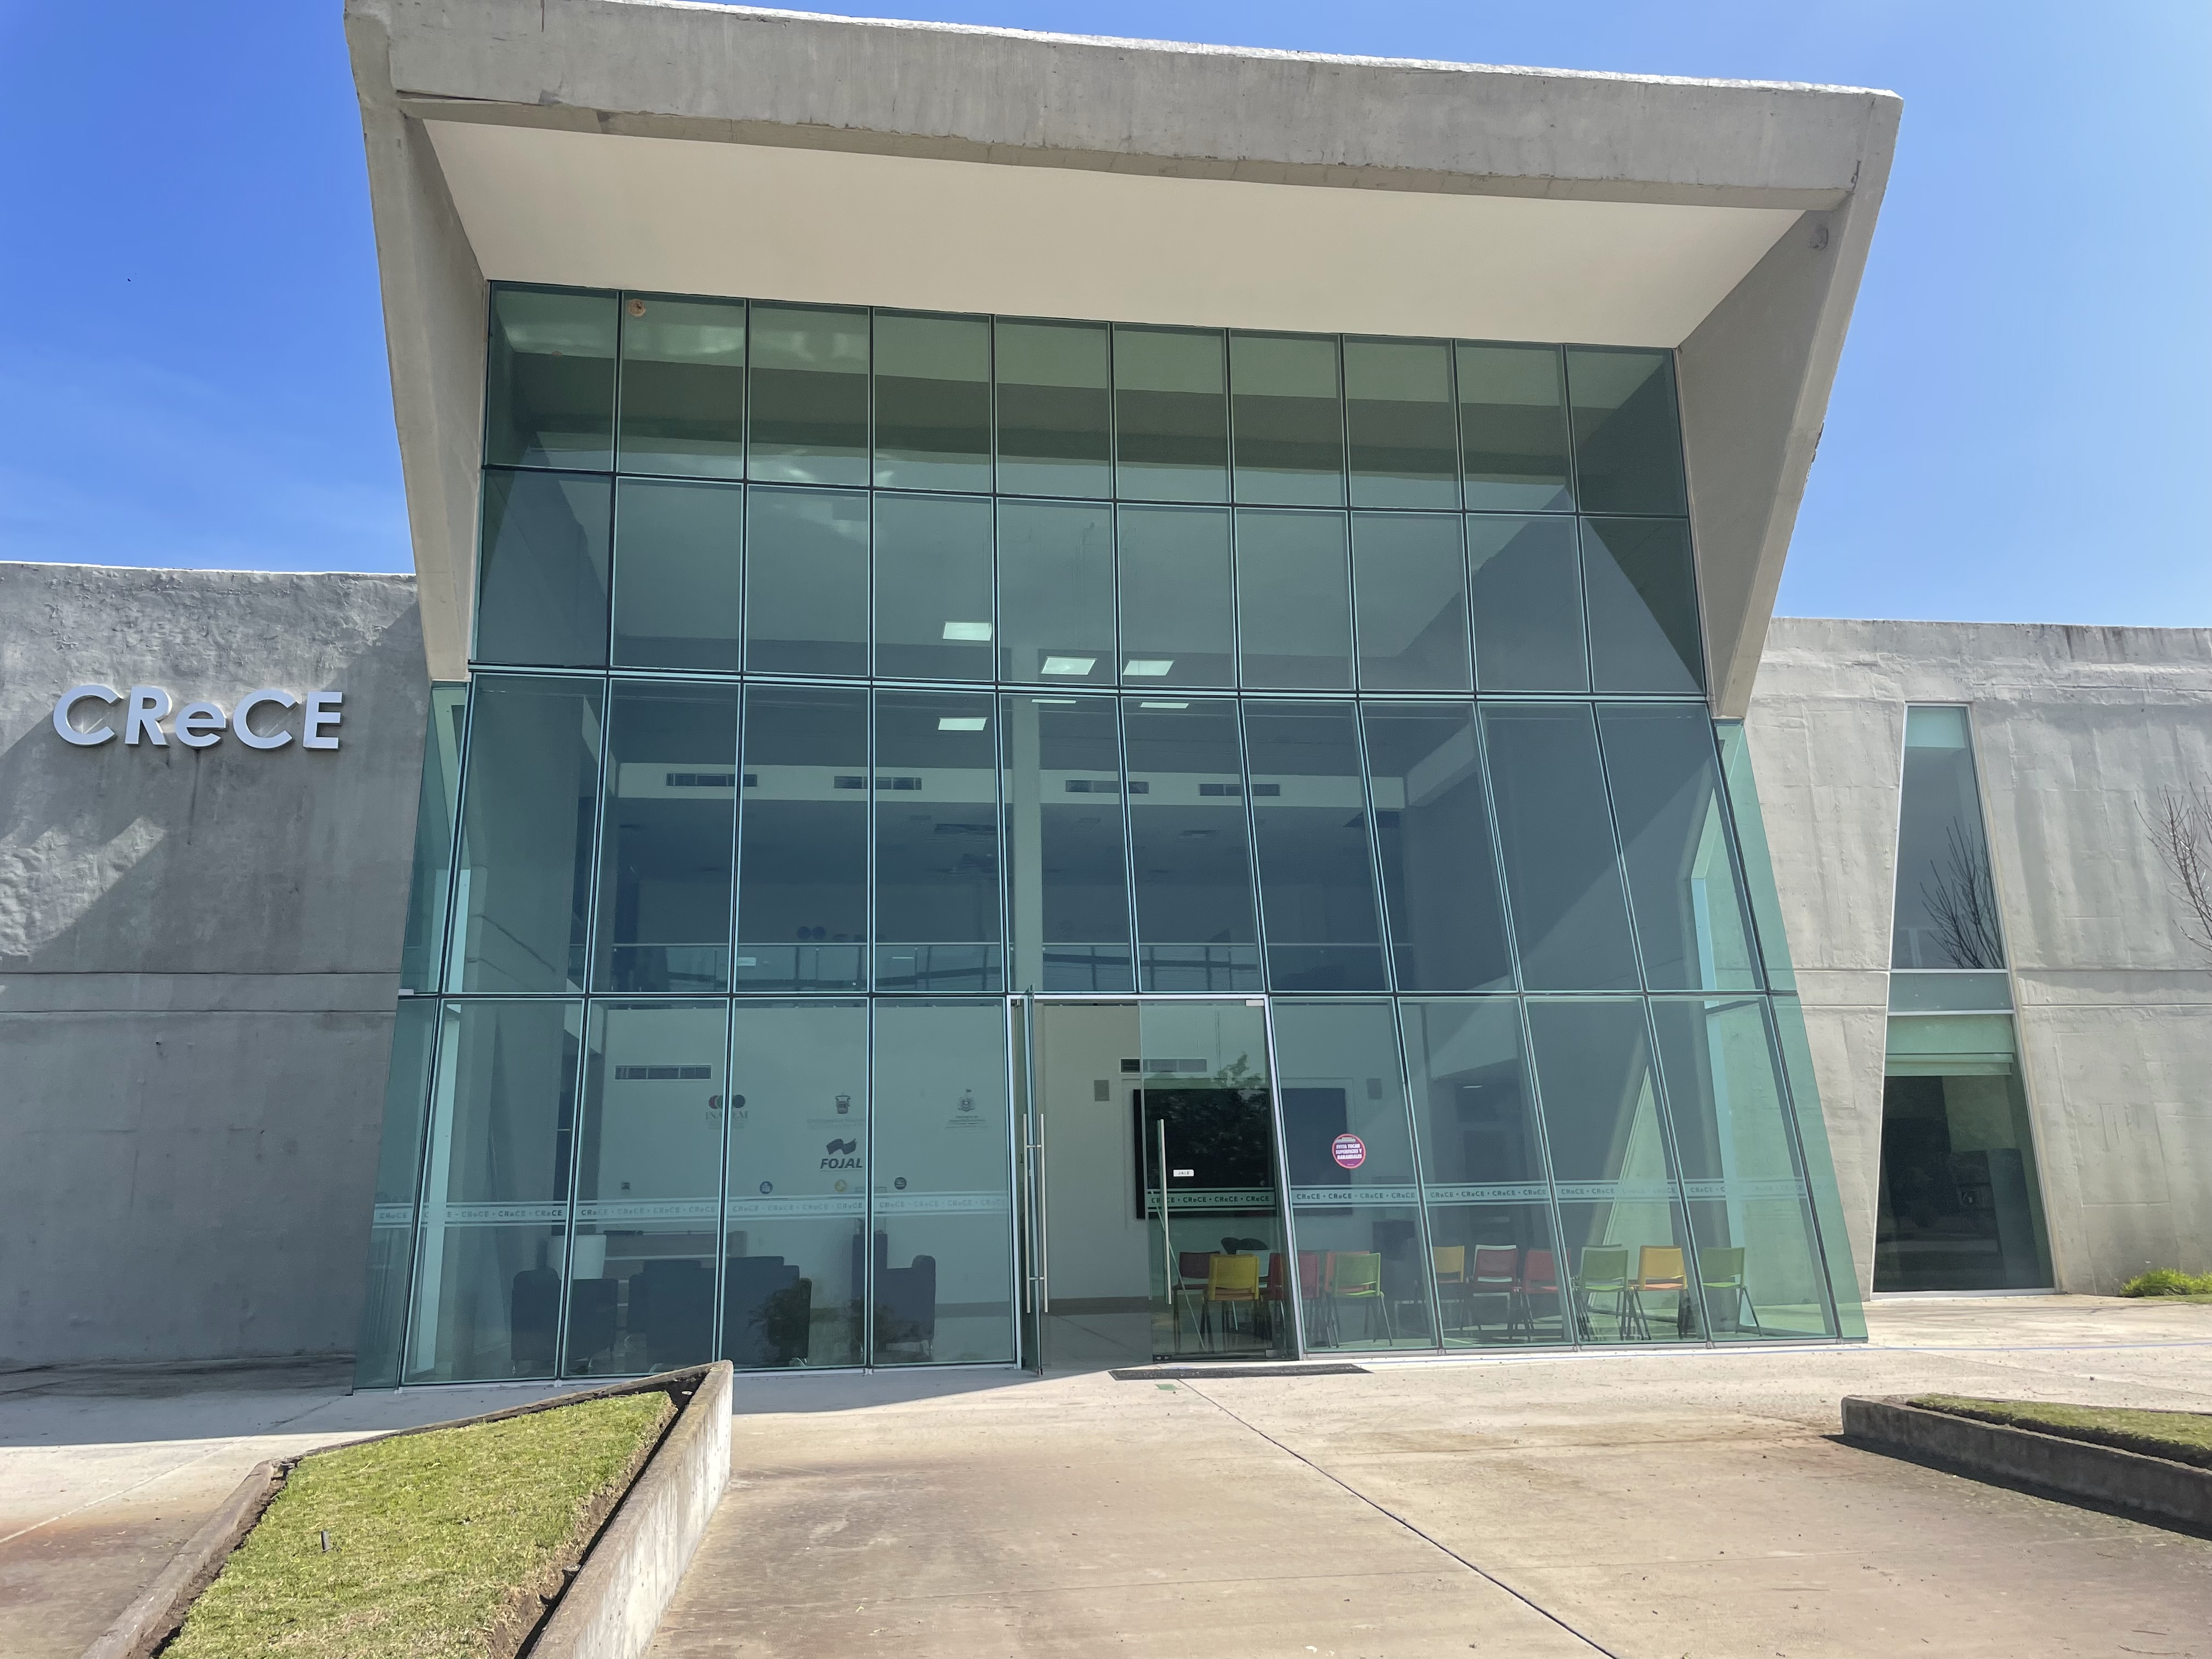crece: (47, 0, 2153, 1396)
